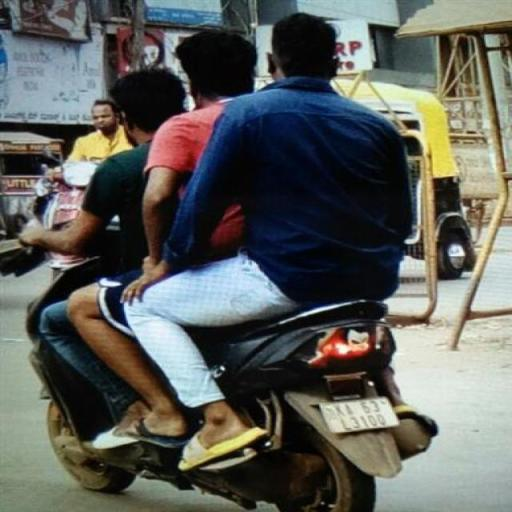tripple riding: (19, 10, 419, 300)
